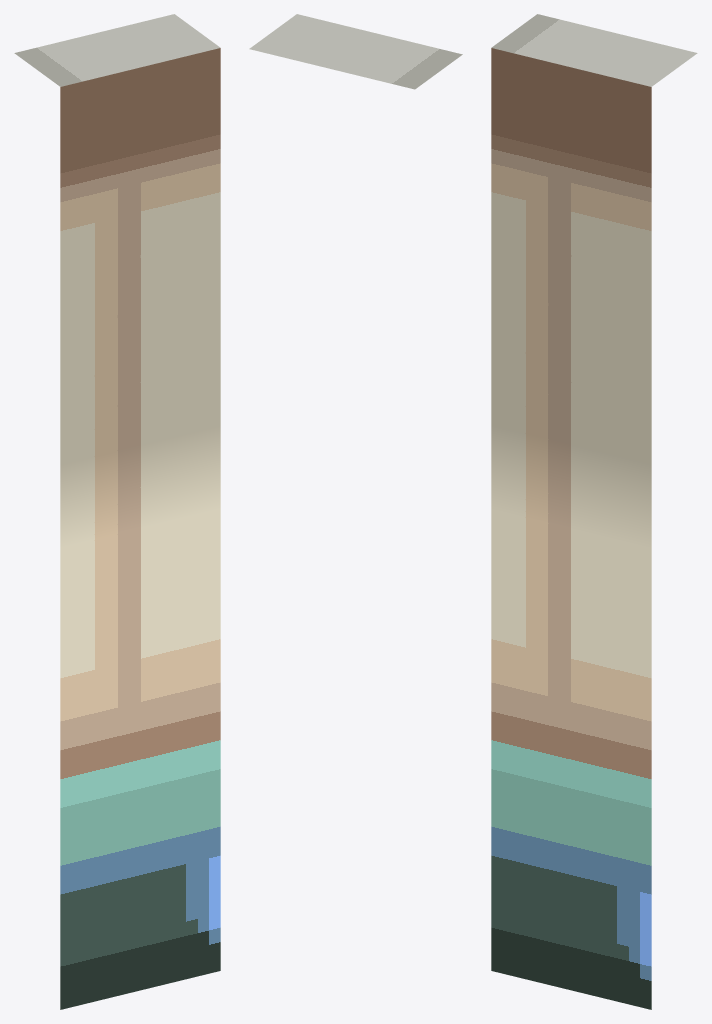
3 views of the same model, side by side, from view 1: azimuth 30°, elevation 25°; view 2: azimuth 150°, elevation 25°; view 3: azimuth 330°, elevation 25° (orthographic). The views are drawn at different scales.
Size of the model in its own units: 1 by 5.5 by 0.5.
2 materials, 2 textured.
